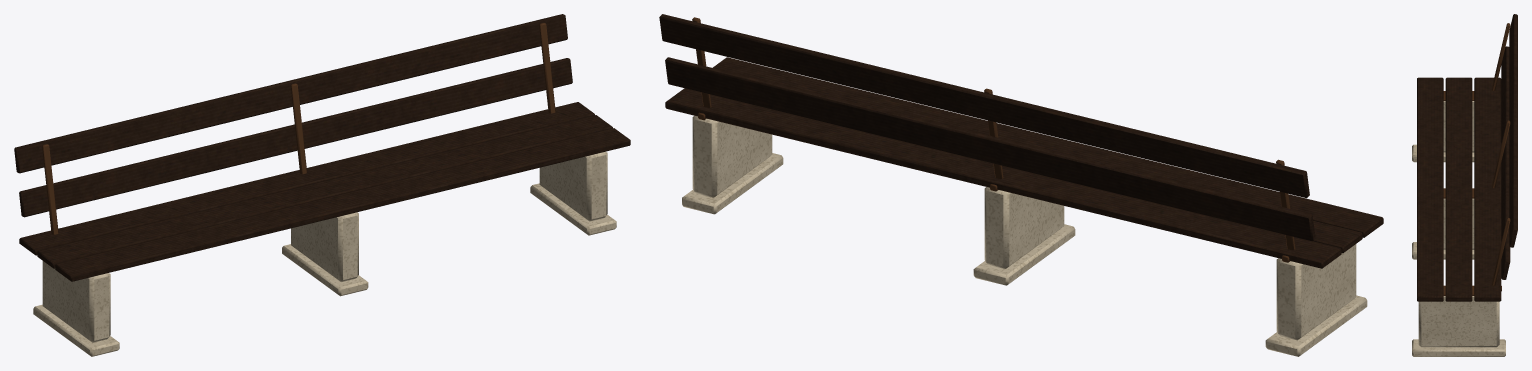
Rendered from bench-long.lod1.glb.
3 renders of one model, left to right at view 1: azimuth 30°, elevation 25°; view 2: azimuth 150°, elevation 25°; view 3: azimuth 270°, elevation 25°, orthographic. The views are drawn at different scales.
Visible parts, largest first — view 1: bench_long_Timber • oiled walnut, bench_long_Stone • warm limestone, bench_long_Trim • places palette; view 2: bench_long_Timber • oiled walnut, bench_long_Stone • warm limestone, bench_long_Trim • places palette; view 3: bench_long_Timber • oiled walnut, bench_long_Stone • warm limestone, bench_long_Trim • places palette.
Boxes of the visible parts, x1=… form: bench_long_Timber • oiled walnut: x1=14, y1=14, x2=630, y2=281; bench_long_Stone • warm limestone: x1=33, y1=151, x2=616, y2=356; bench_long_Trim • places palette: x1=42, y1=23, x2=555, y2=234; bench_long_Timber • oiled walnut: x1=659, y1=14, x2=1383, y2=268; bench_long_Stone • warm limestone: x1=682, y1=115, x2=1367, y2=356; bench_long_Trim • places palette: x1=692, y1=17, x2=1295, y2=262; bench_long_Timber • oiled walnut: x1=1417, y1=14, x2=1517, y2=301; bench_long_Stone • warm limestone: x1=1412, y1=101, x2=1505, y2=356; bench_long_Trim • places palette: x1=1443, y1=23, x2=1510, y2=295.
Bounding box in the file's own units: 3.2 × 0.9056 × 0.6529.
Materials: 3 (3 with a texture image).
